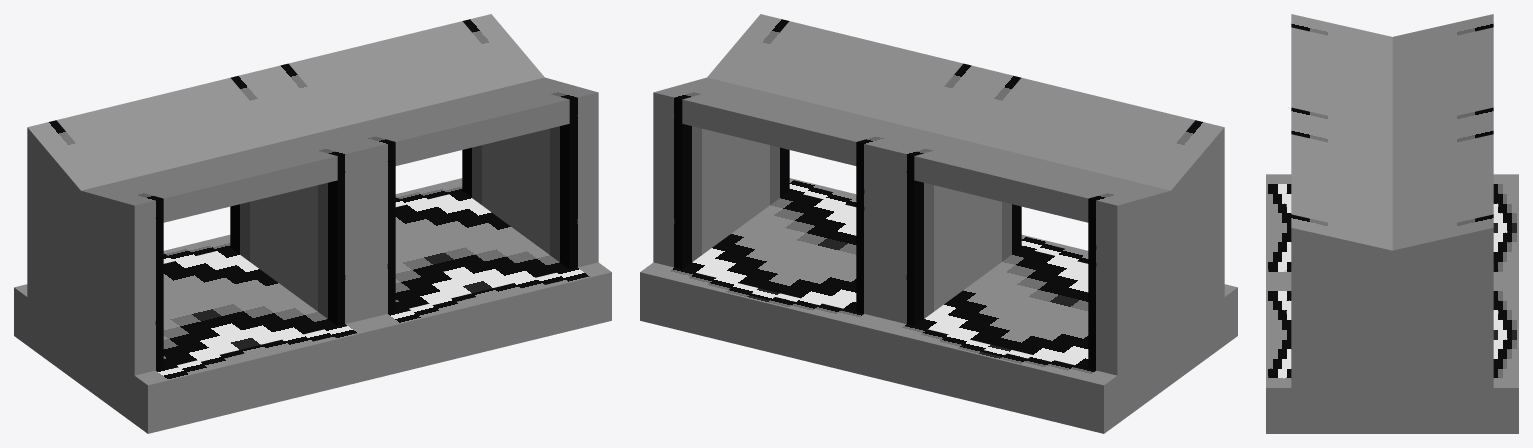
File: splitter.glb
3 views of the same model, side by side, from view 1: azimuth 30°, elevation 25°; view 2: azimuth 150°, elevation 25°; view 3: azimuth 270°, elevation 25° (orthographic). The views are drawn at different scales.
Visible parts, largest first — view 1: Cube; view 2: Cube; view 3: Cube.
Part boxes in pixels (x1,y1,x2,y2): Cube: (14,14,611,433); Cube: (640,14,1237,433); Cube: (1266,14,1518,433).
Bounding box in the file's own units: 2 × 0.9 × 1.
Materials: 1 (1 with a texture image).
